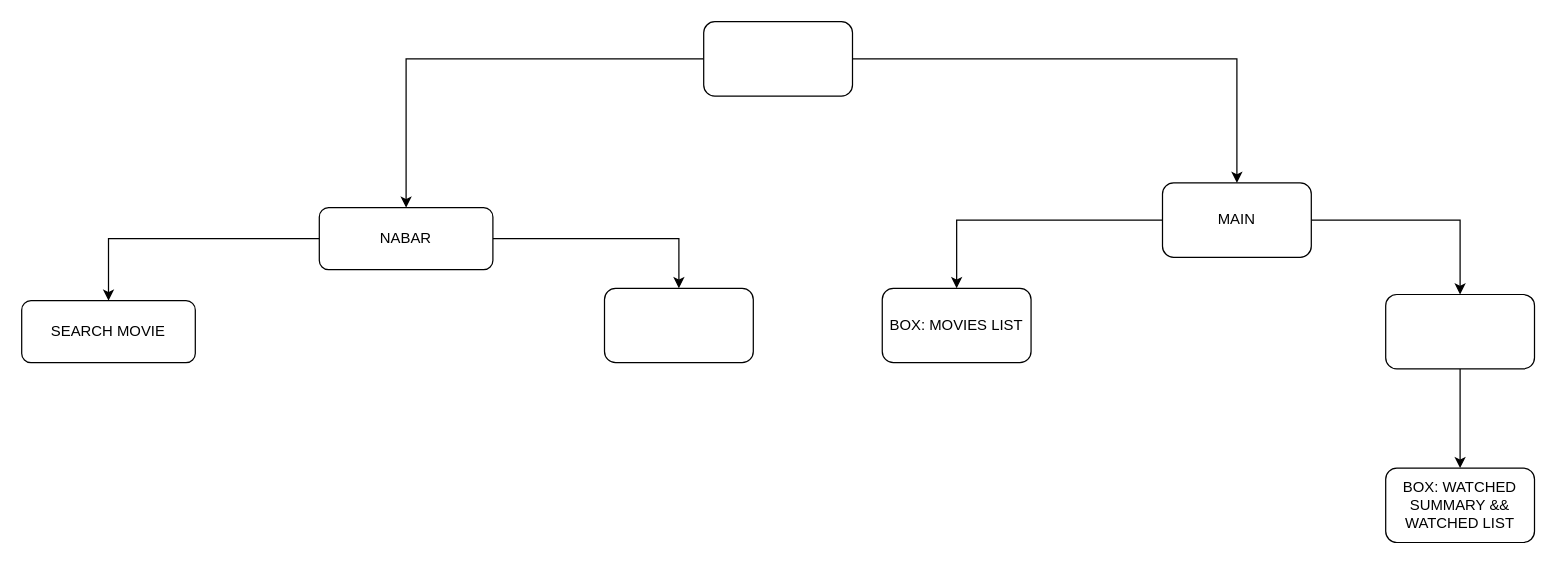
Some shapes in this 1556 by 564 pixel diagram are drawn without their labels. Here are the shapes that lost their labels. From the top down, the box of each, then its label:
(702, 20, 852, 96): App
(603, 287, 753, 363): NUMBER RESULT
(1384, 293, 1534, 369): BOX: SELECTED MOVIES
